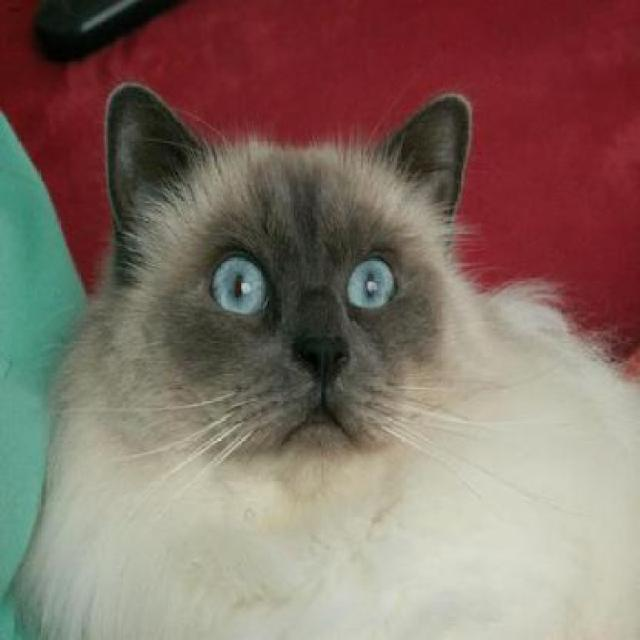cat: (14, 96, 638, 638)
